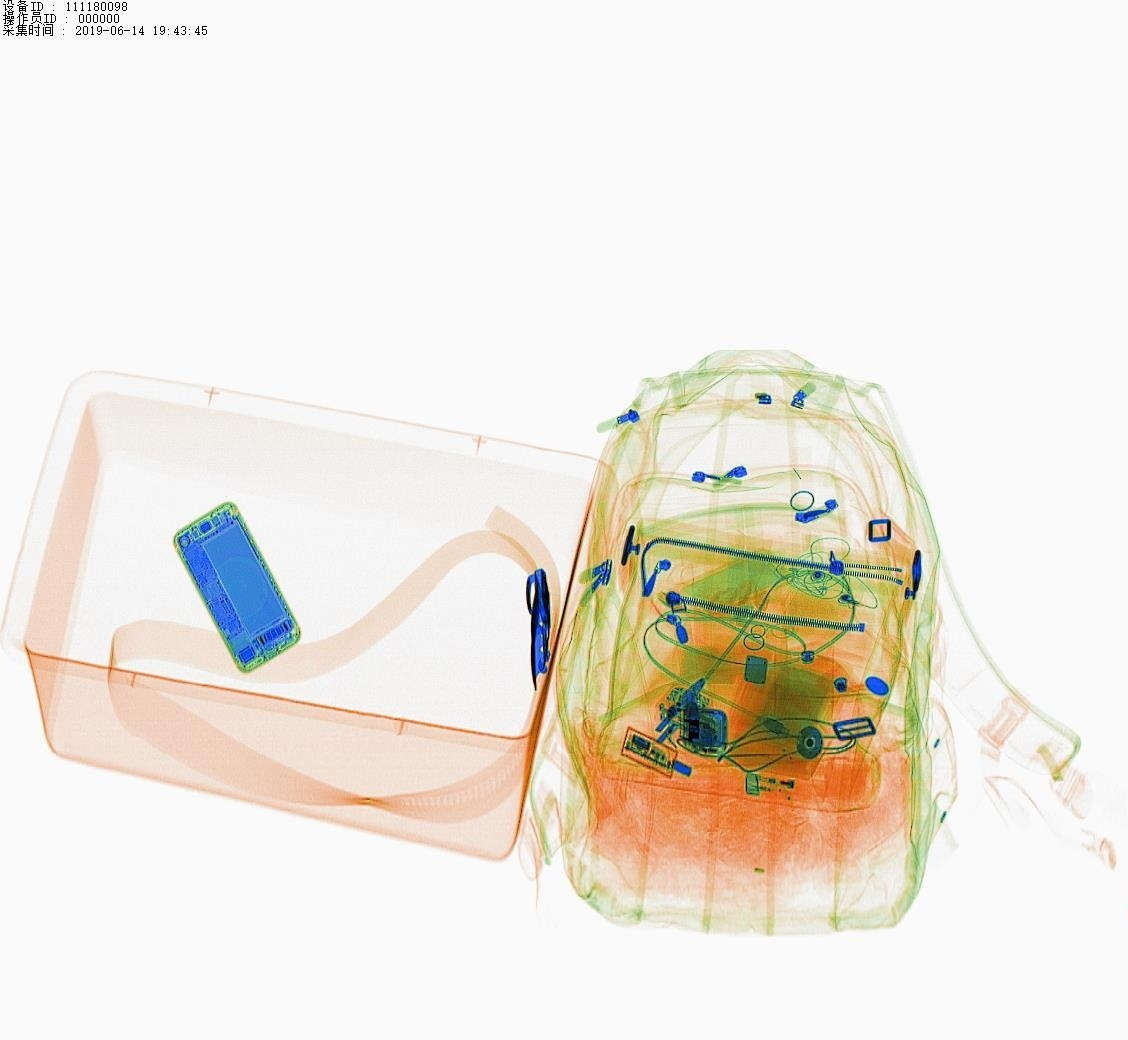NonmetallicFire: (729, 764, 849, 809)
